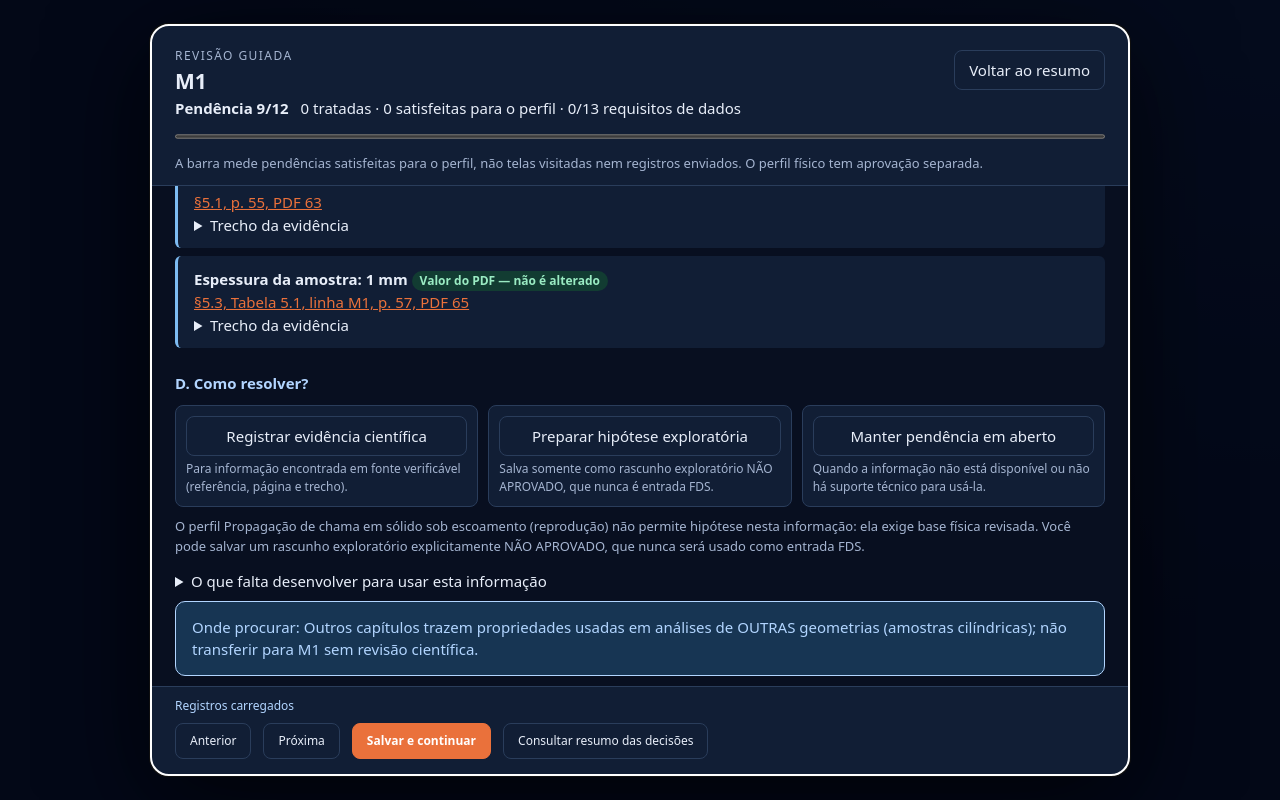
pirólise: hipótese vira rascunho exploratório NÃO APROVADO, com formulário de propriedades
The width and height of the screenshot is (1280, 800).
(page scrolled)
Expected: the text "Pendência 9/12" is shown, [175,97,289,120]
Expected: the text "NÃO APROVADO" is shown, [499,460,772,495]
Click the button "Preparar hipótese exploratória" at (640, 436), box [499,416,781,456]
(page scrolled)
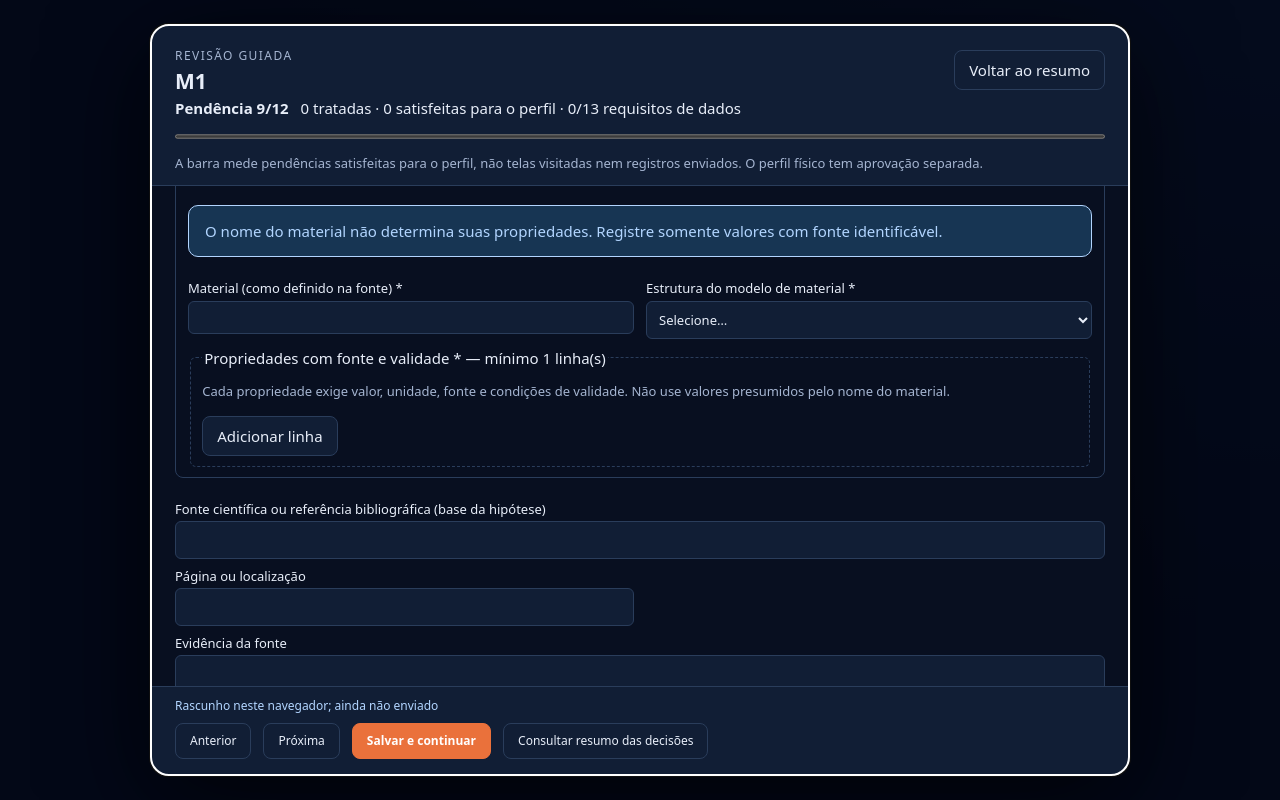
Result: the text "O nome do material não determina suas propriedades" is shown at [205,220,942,240]
Click the button "Adicionar linha" at (270, 436), box [202,416,338,456]
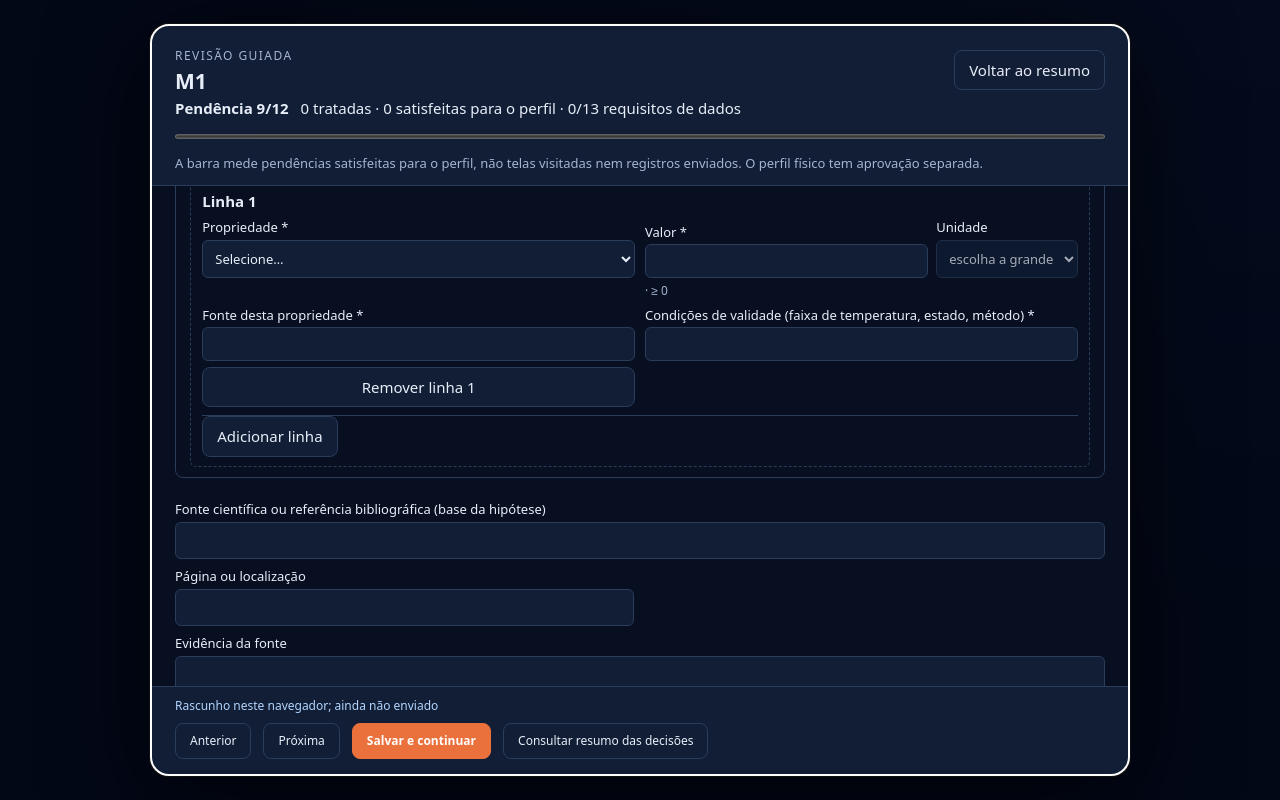
Result: the text "Linha 1" is shown at [202,191,257,211]
Select "Densidade" in the dropdown labelled "Propriedade *" at (419, 259), box [202,240,635,278]
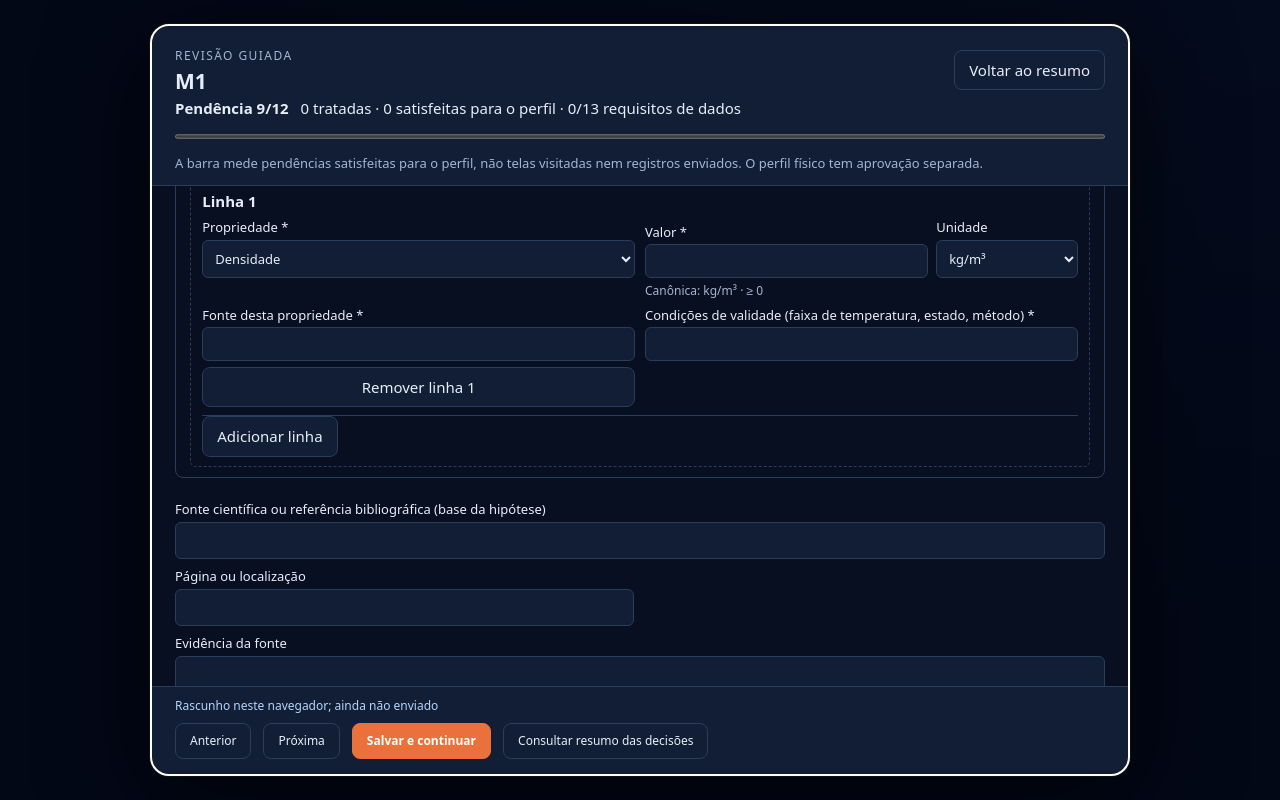
Result: the dropdown labelled "Unidade" shows "kg/m³" at [936,240,1078,278]
